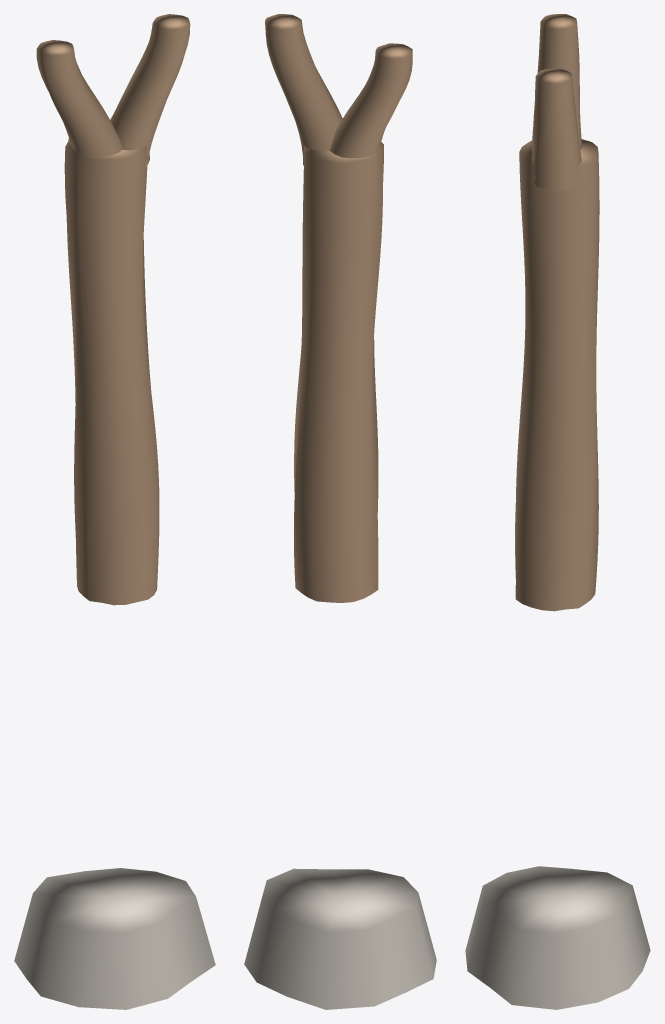
File: bagana-f1-3x9x3-v2.glb
3 views of the same model, side by side, from view 1: azimuth 30°, elevation 25°; view 2: azimuth 150°, elevation 25°; view 3: azimuth 270°, elevation 25° (orthographic).
Parts seen in each view (by area): view 1: bagana_wood, bagana_stone; view 2: bagana_wood, bagana_stone; view 3: bagana_wood, bagana_stone.
Boxes of the visible parts, left/top/right/bottom form: bagana_wood: left=36, top=14, right=190, bottom=605; bagana_stone: left=14, top=868, right=215, bottom=1009; bagana_wood: left=265, top=14, right=412, bottom=602; bagana_stone: left=244, top=868, right=436, bottom=1009; bagana_wood: left=515, top=14, right=599, bottom=611; bagana_stone: left=465, top=866, right=650, bottom=1009.
Size of the model in its own units: 0.657 by 3.38 by 0.6169.
